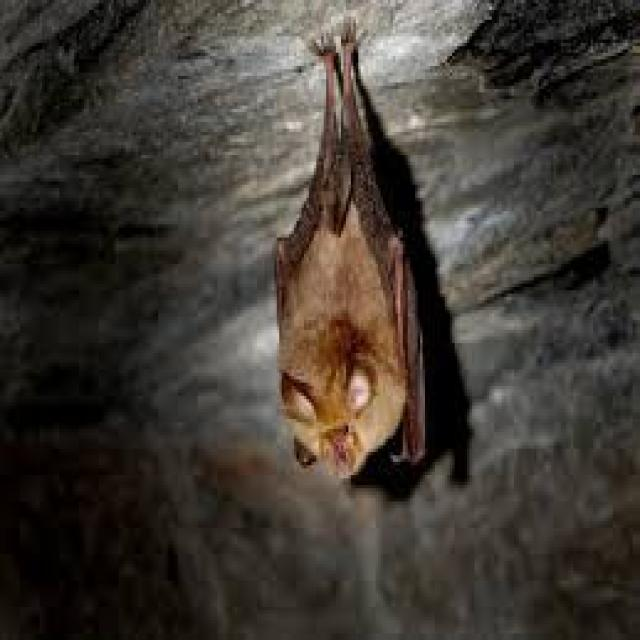Bat: (275, 42, 425, 480)
